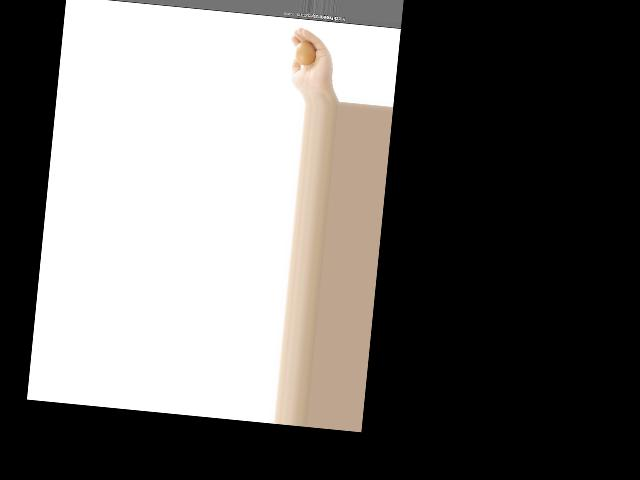egg: (294, 38, 316, 66)
